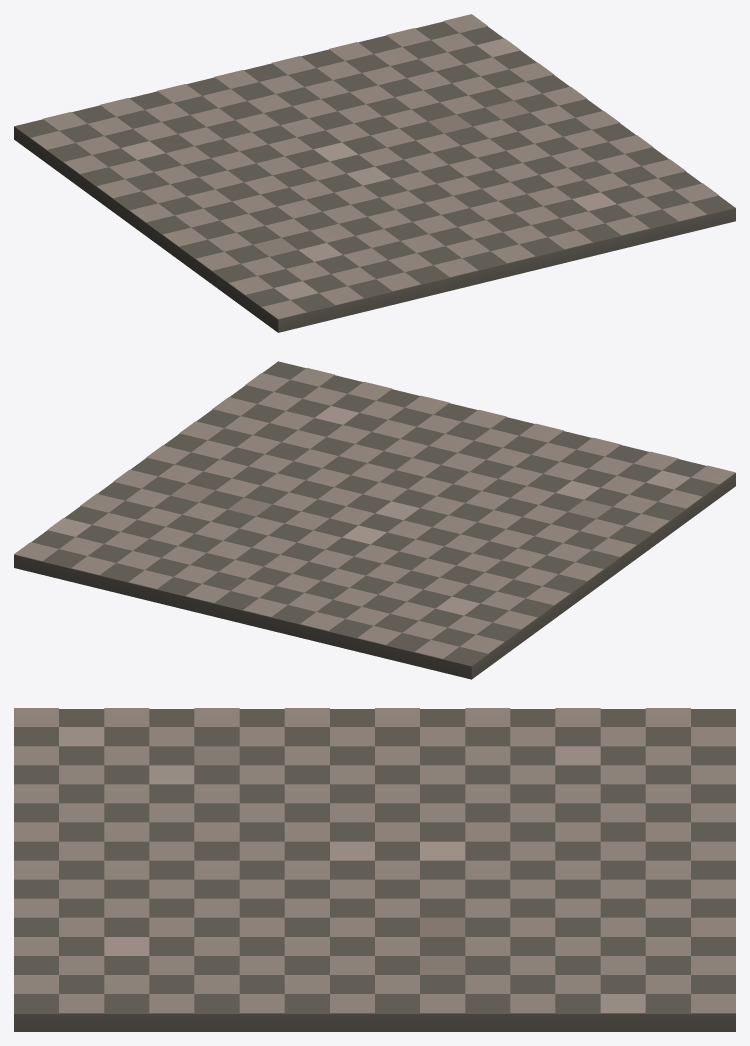
File: TSP_House_Floor_Small_05A.fbx
The picture shows the model from 3 angles, top to bottom: view 1: azimuth 30°, elevation 25°; view 2: azimuth 150°, elevation 25°; view 3: azimuth 270°, elevation 25°; orthographic projection. The views are drawn at different scales.
Parts seen in each view (by area): view 1: TSP_House_Floor_Small_05A; view 2: TSP_House_Floor_Small_05A; view 3: TSP_House_Floor_Small_05A.
Part boxes in pixels (x1,y1,x2,y2): TSP_House_Floor_Small_05A: [14, 14, 735, 332]; TSP_House_Floor_Small_05A: [14, 361, 735, 679]; TSP_House_Floor_Small_05A: [14, 708, 735, 1031].
Size of the model in its own units: 4 by 0.115 by 4.
